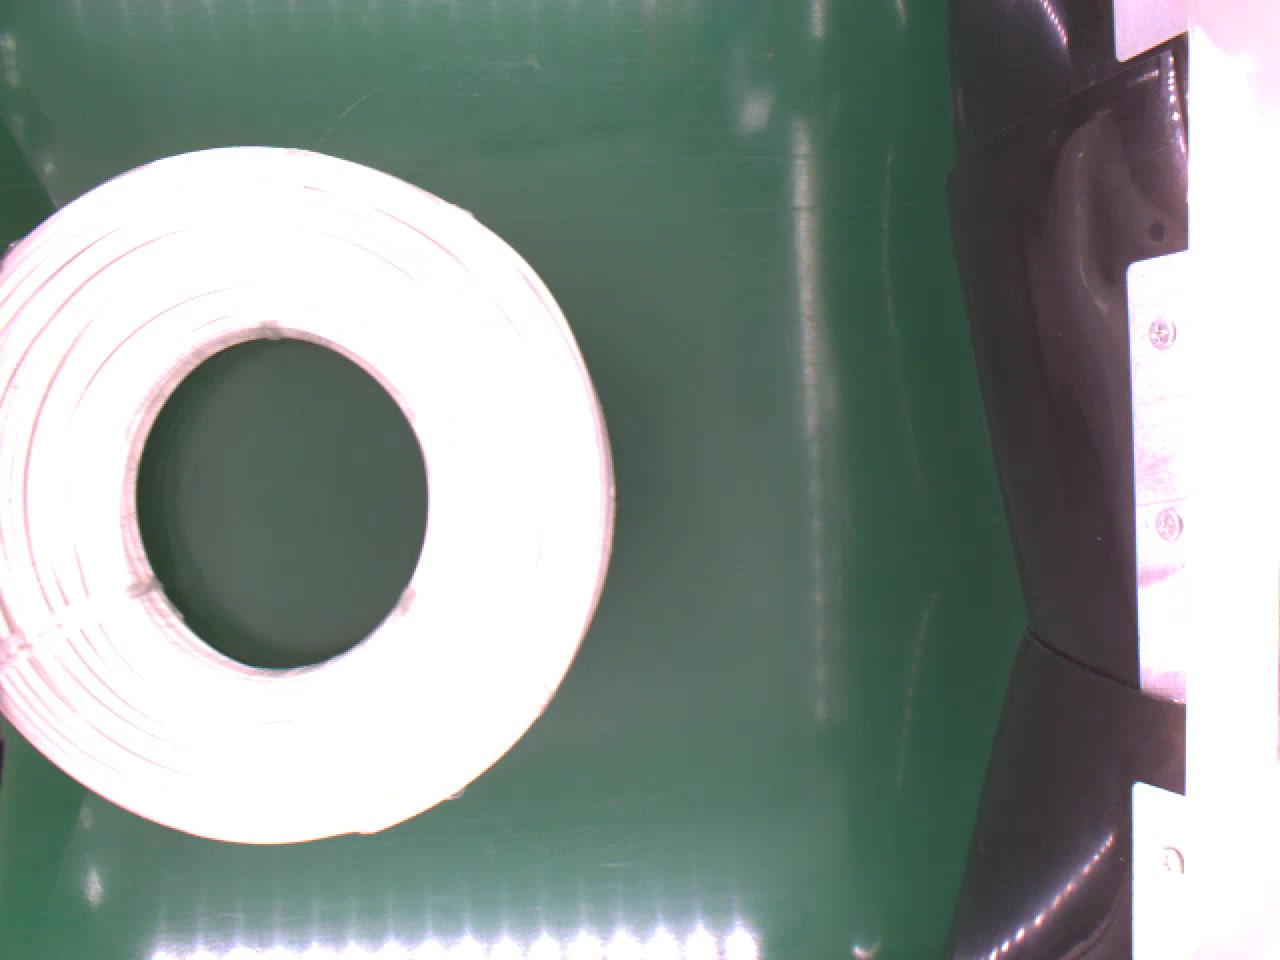white: (0, 139, 620, 847)
